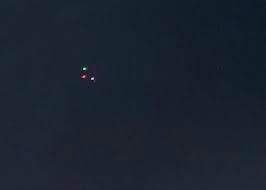Plane: (64, 58, 106, 88)
